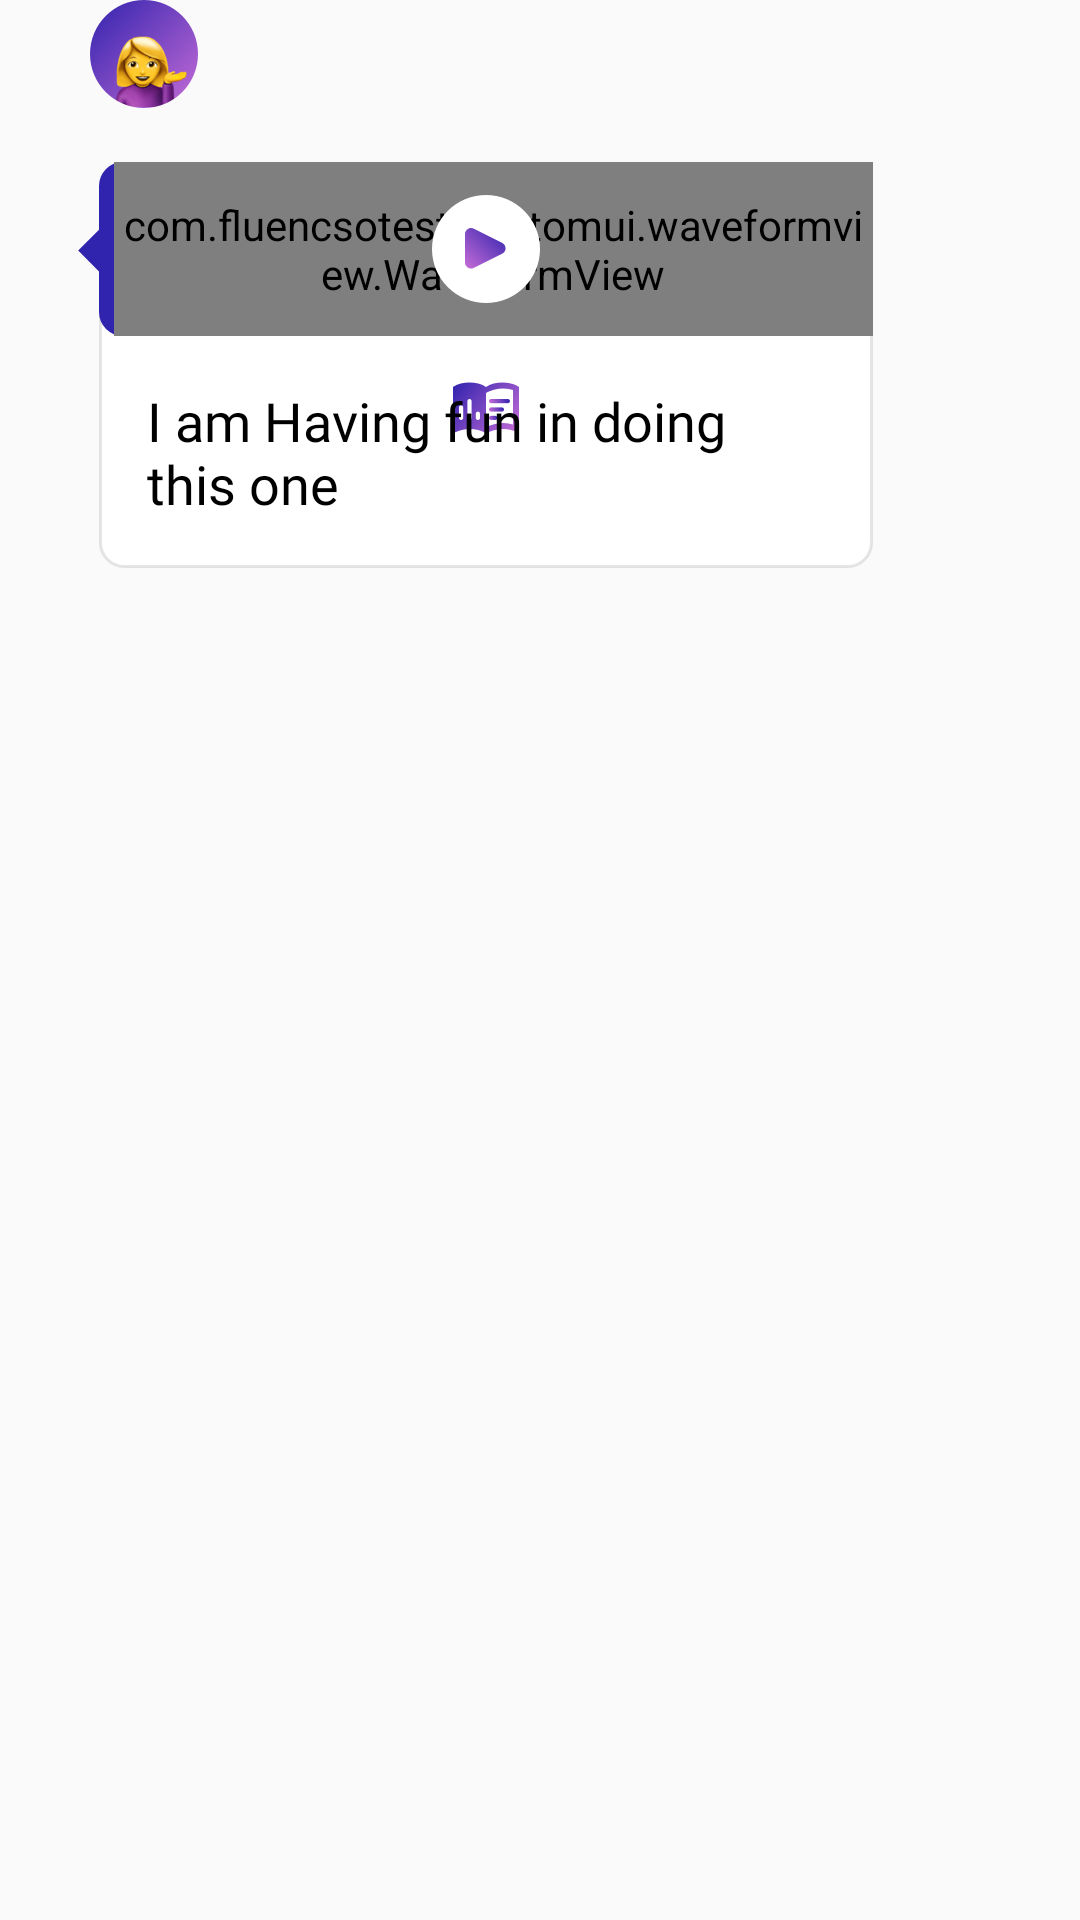

Named icons in this screenshot (1080×1920) and their centers, (x=x, y=y):
persona: (x=144, y=54)
playback: (x=486, y=249)
transcribe: (x=486, y=408)
